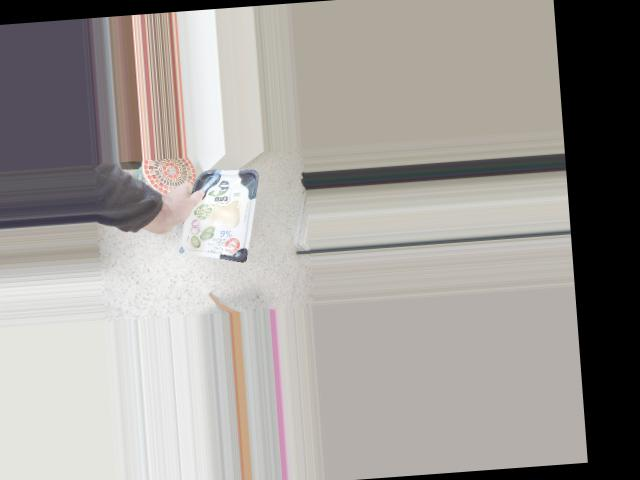cheese: (181, 161, 257, 267)
